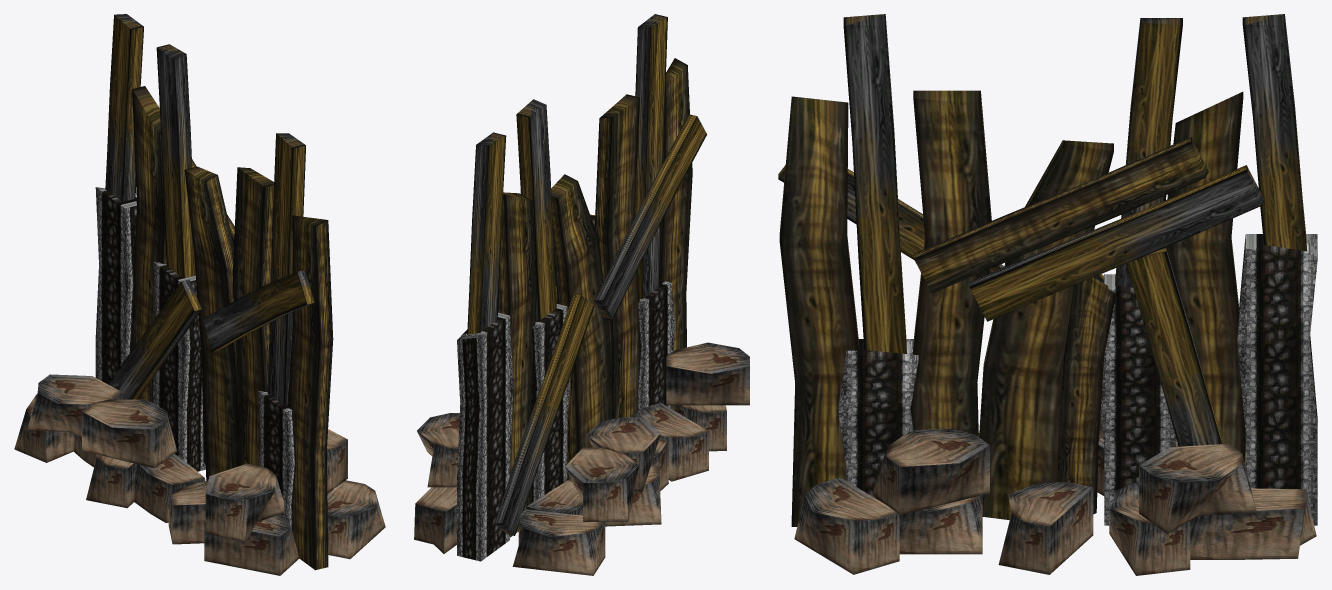
The model's file is CB_WOOD_BARACADE03.fbx.
The picture shows the model from 3 angles, left to right: view 1: azimuth 30°, elevation 25°; view 2: azimuth 150°, elevation 25°; view 3: azimuth 270°, elevation 25°; orthographic projection. The views are drawn at different scales.
Visible parts, largest first — view 1: CB_WOOD_BARACADE03; view 2: CB_WOOD_BARACADE03; view 3: CB_WOOD_BARACADE03.
Part boxes in pixels (<box>): CB_WOOD_BARACADE03: <box>14,14,385,575</box>; CB_WOOD_BARACADE03: <box>414,14,749,575</box>; CB_WOOD_BARACADE03: <box>778,14,1317,575</box>.
Size of the model in its own units: 21419 by 37605 by 36439.
Materials: 4 (4 with a texture image).
